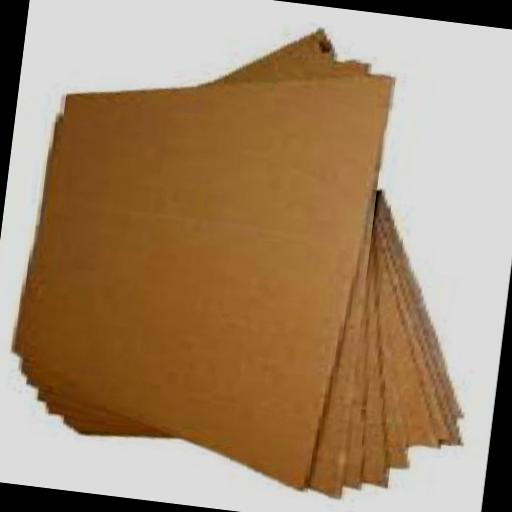cardboard: (60, 6, 484, 480), (16, 27, 436, 498), (32, 30, 450, 472), (5, 26, 392, 502), (0, 34, 397, 497), (402, 316, 476, 460)
